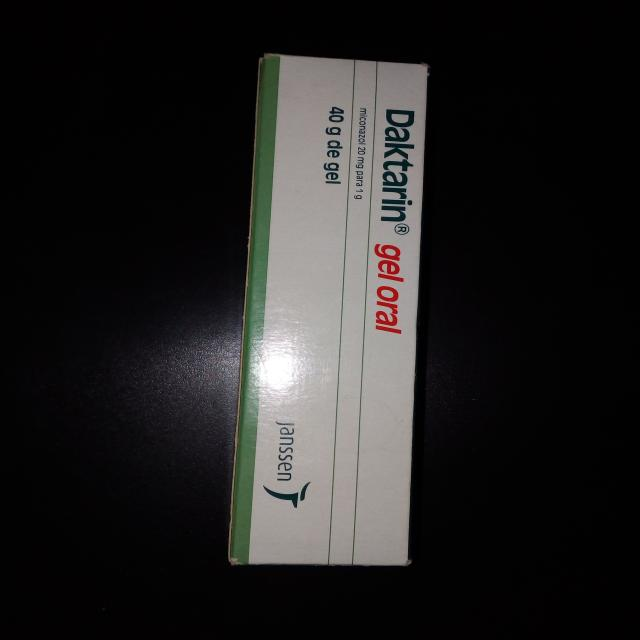Medicine: (221, 50, 433, 571)
